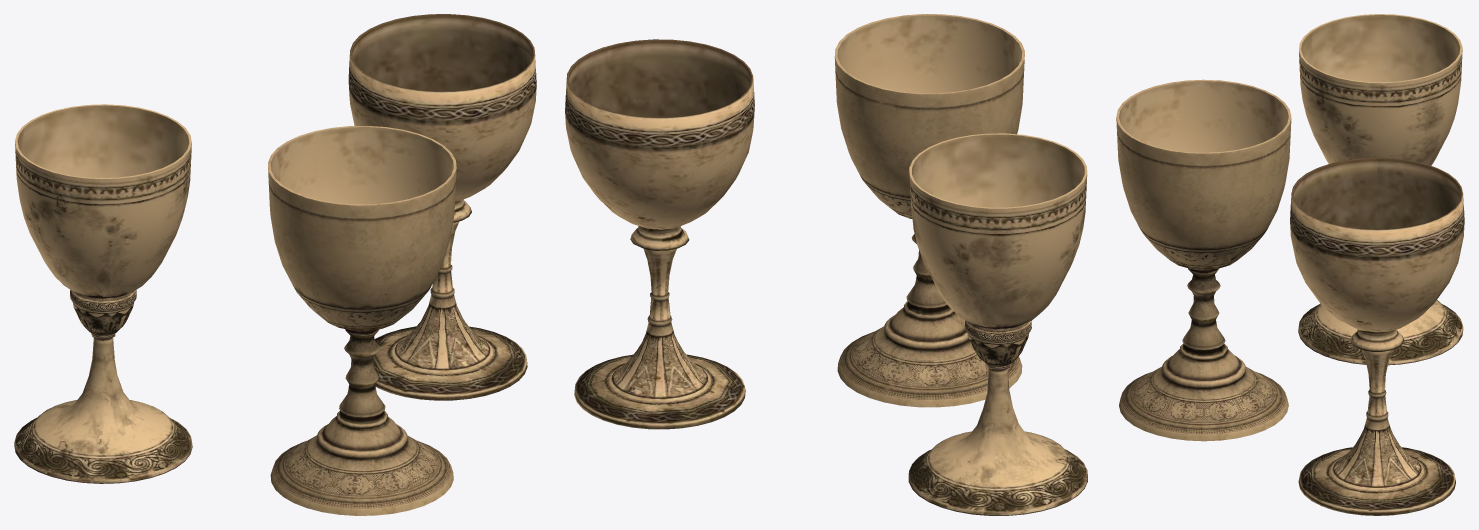
File: brass_goblets.glb
3 views of the same model, side by side, from view 1: azimuth 30°, elevation 25°; view 2: azimuth 150°, elevation 25°; view 3: azimuth 270°, elevation 25° (orthographic). The views are drawn at different scales.
Parts seen in each view (by area): view 1: brass_goblet_01, brass_goblet_02, brass_goblet_03; view 2: brass_goblet_02, brass_goblet_03, brass_goblet_01; view 3: brass_goblet_01, brass_goblet_03, brass_goblet_02.
Boxes of the visible parts, box(x1,y1,x2,y2) form: brass_goblet_01: box(268, 126, 456, 515); brass_goblet_02: box(14, 104, 192, 483); brass_goblet_03: box(348, 14, 536, 400); brass_goblet_02: box(908, 133, 1087, 515); brass_goblet_03: box(565, 39, 754, 429); brass_goblet_01: box(834, 14, 1024, 407); brass_goblet_01: box(1116, 79, 1291, 441); brass_goblet_03: box(1290, 157, 1464, 515); brass_goblet_02: box(1298, 14, 1463, 365).
Bounding box in the file's own units: 0.4534 × 0.2734 × 0.2976.
Materials: 3 (3 with a texture image).
